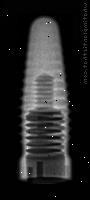Camlog: (12, 13, 73, 183)
